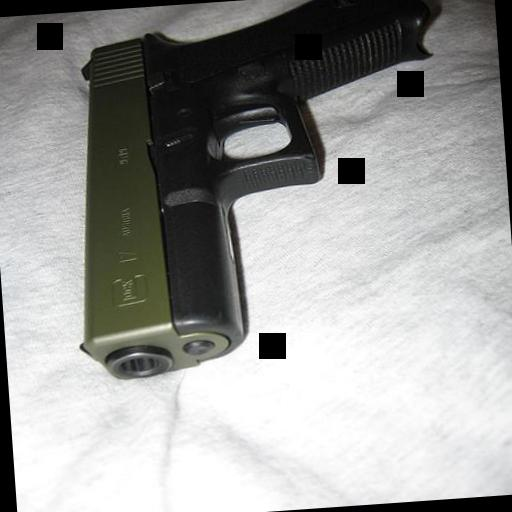Handgun: (60, 0, 457, 395)
